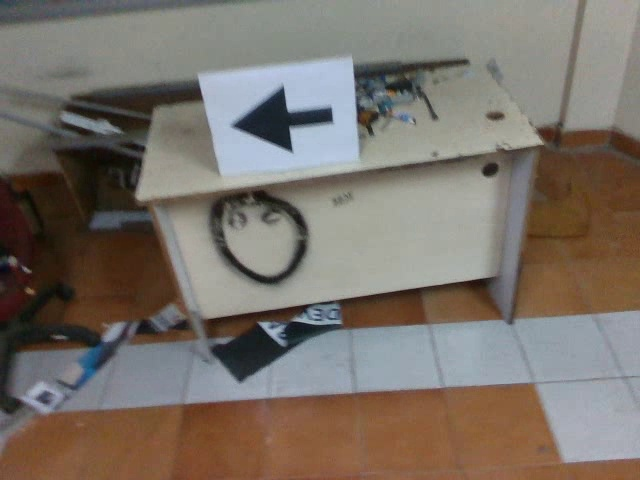Left: (224, 82, 341, 158)
